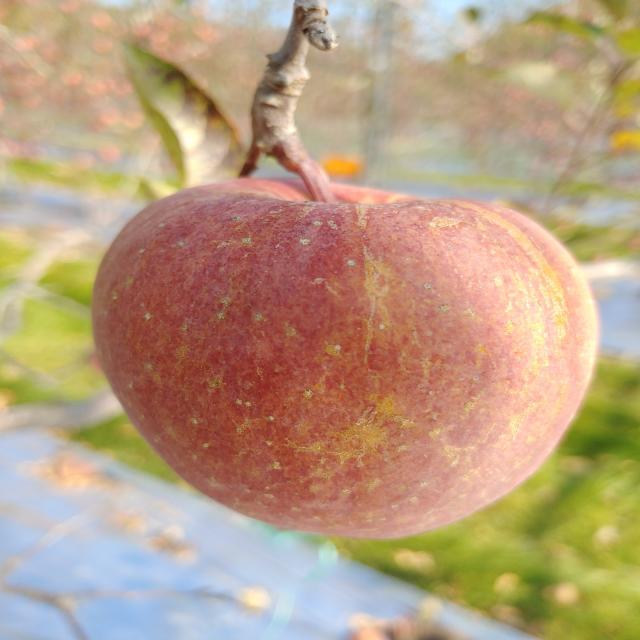fresh: (78, 158, 622, 553)
